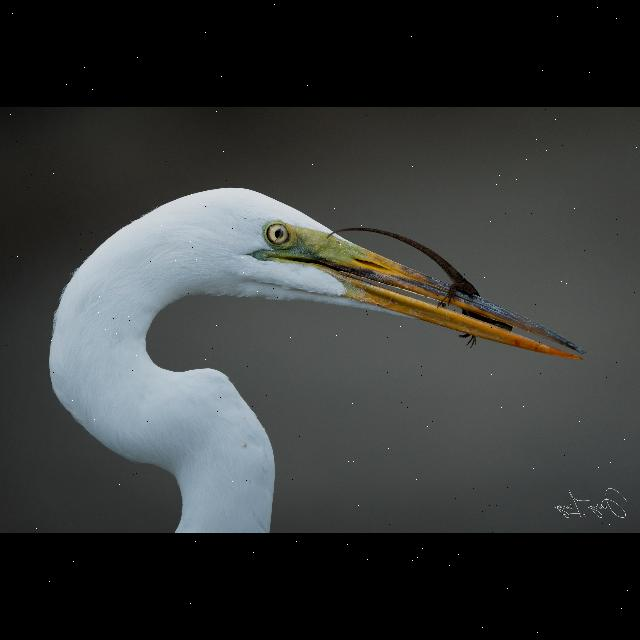egret: (32, 179, 592, 533)
